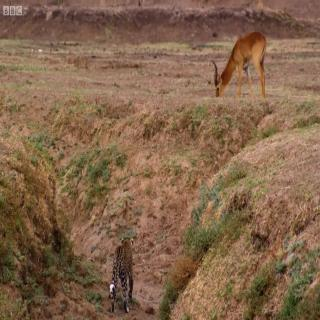Leopard: (104, 222, 144, 320)
